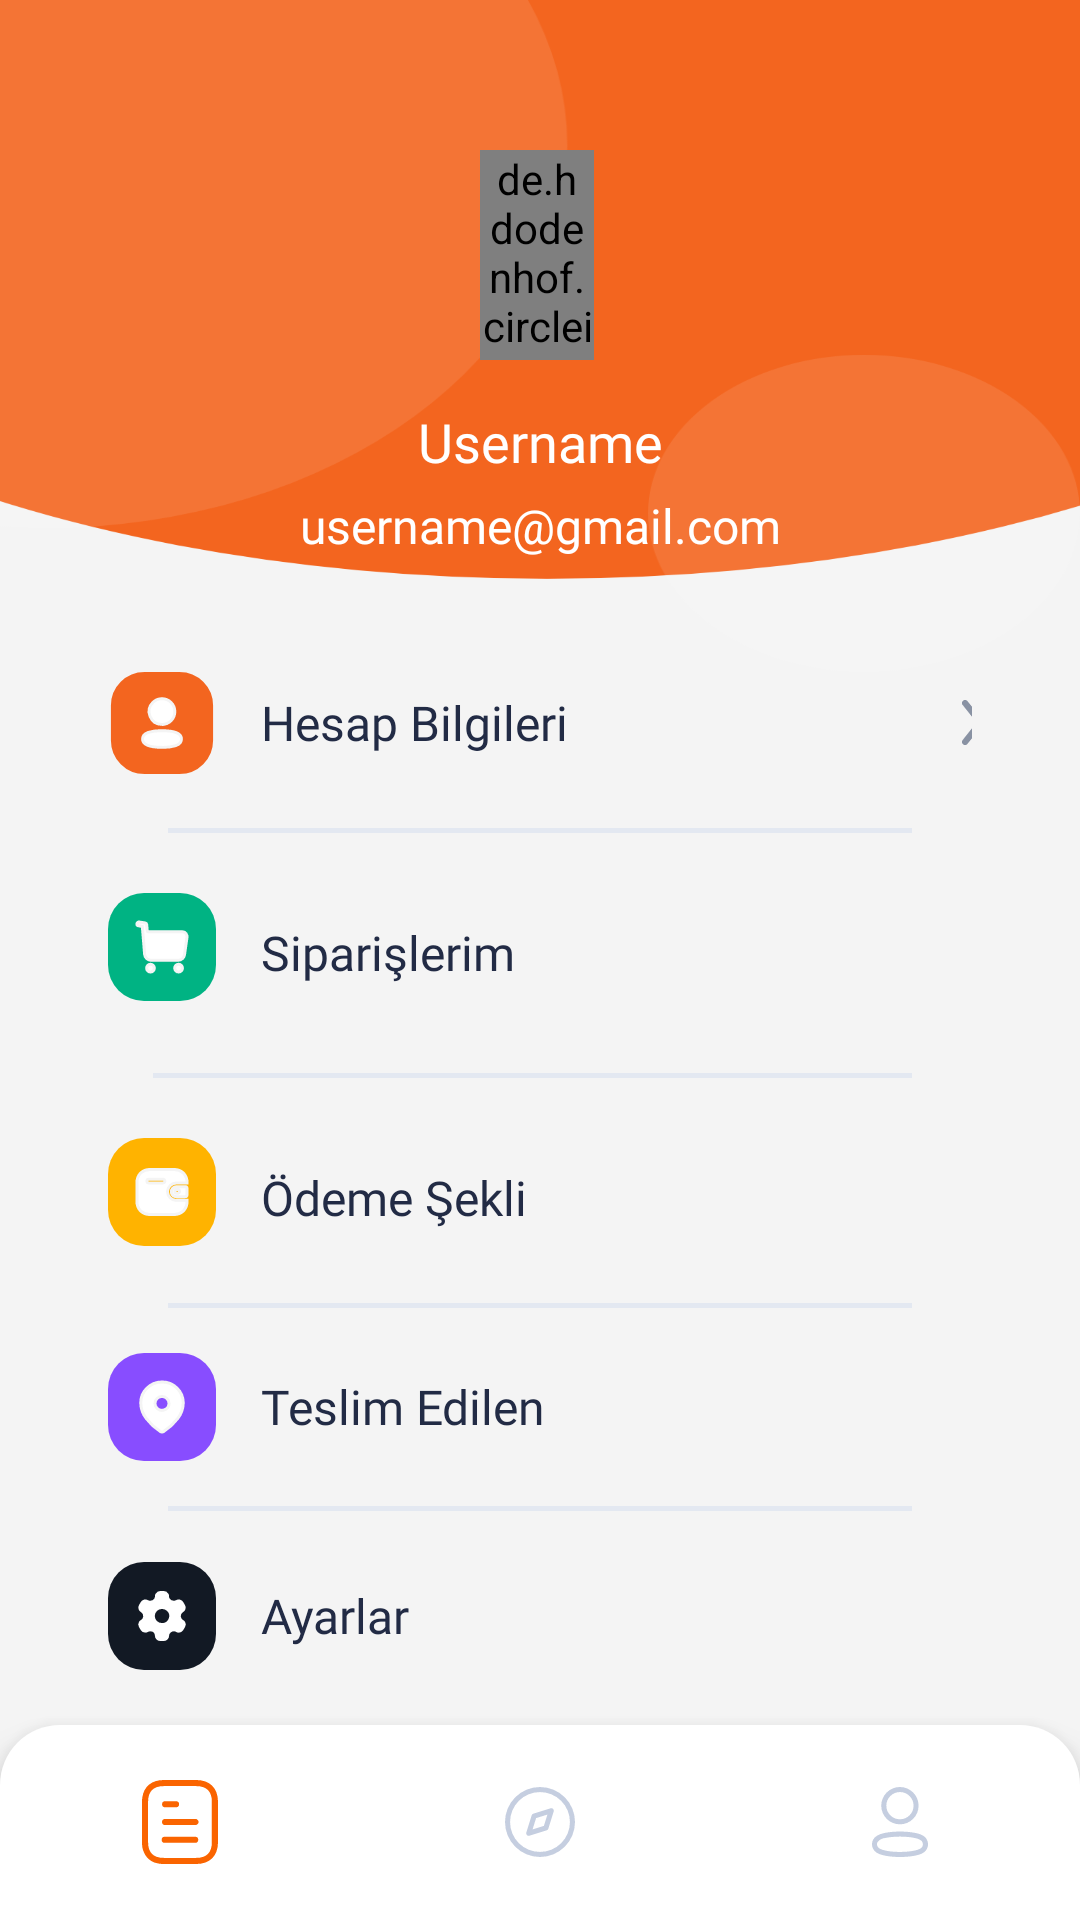

Point at icon controls on the screen. Image size 1080 x 1920, points as [x,y].
delivery address: [162,1407]
payment card: [162,1192]
user one: [162,723]
user order: [162,947]
user settings: [162,1616]
